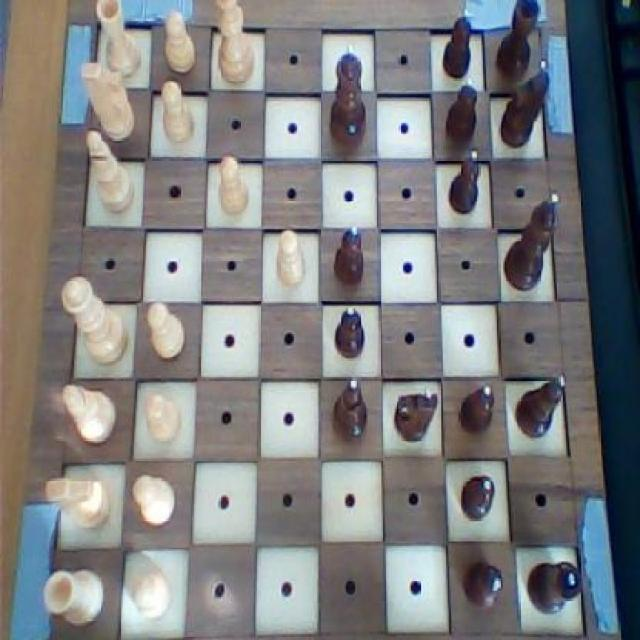bishop: (511, 369, 568, 441), (326, 372, 372, 448)
black-bishop: (501, 190, 564, 298)
black-king: (494, 57, 554, 160), (389, 382, 441, 446)
black-knight: (439, 74, 483, 150), (460, 549, 508, 616), (442, 145, 486, 217), (438, 6, 478, 82), (454, 379, 501, 443), (330, 219, 368, 293), (454, 466, 498, 526), (331, 299, 371, 363)
black-pawn: (326, 40, 369, 152)
black-queen: (489, 0, 542, 83), (522, 555, 584, 623)
black-rook: (83, 126, 139, 219), (57, 378, 121, 449)
white-bishop: (210, 0, 262, 89)
white-king: (78, 58, 142, 147), (40, 471, 114, 536)
white-knight: (126, 468, 184, 534), (157, 78, 201, 151), (157, 6, 201, 79), (123, 562, 175, 623), (143, 299, 190, 366), (271, 224, 310, 296), (214, 151, 252, 220), (141, 391, 184, 447)
white-pawn: (58, 270, 131, 368)
white-queen: (88, 0, 143, 83), (38, 564, 108, 628)
